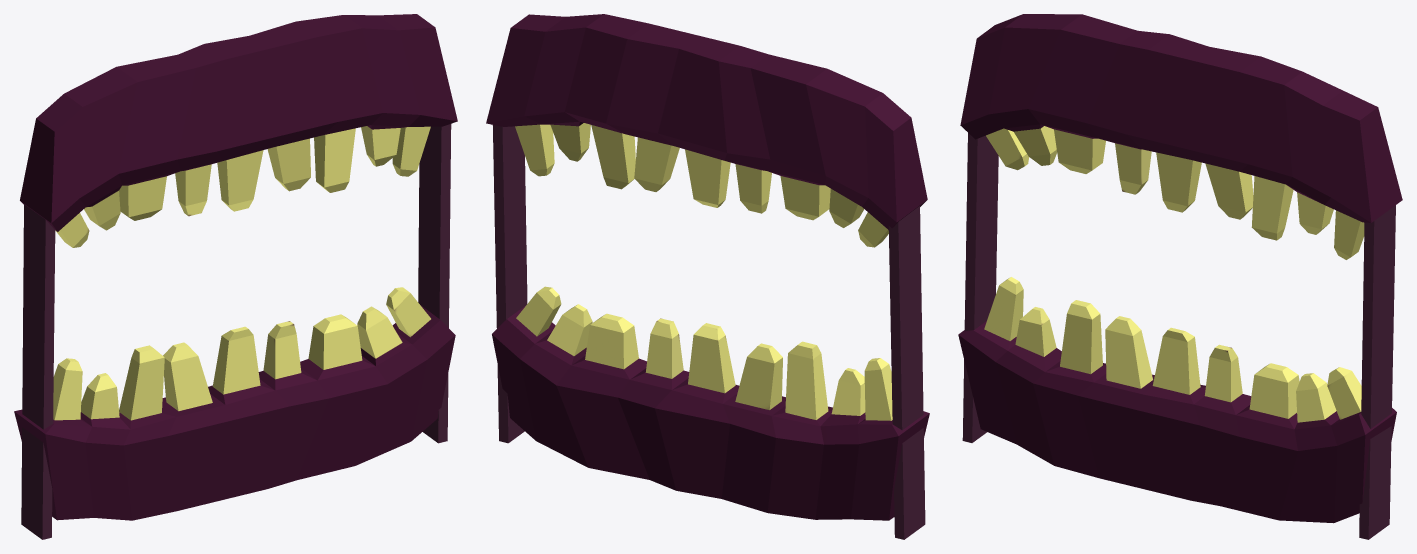
Rendered from EndMouth.fbx.
3 views of the same model, side by side, from view 1: azimuth 30°, elevation 25°; view 2: azimuth 150°, elevation 25°; view 3: azimuth 330°, elevation 25° (orthographic).
Visible parts, largest first — view 1: Cube.001, Cube, Cube.002, Cube.003; view 2: Cube.001, Cube, Cube.002, Cube.003; view 3: Cube.001, Cube, Cube.003, Cube.002.
Part boxes in pixels (x1,y1,x2,y2): Cube.001: [20, 14, 457, 247]; Cube: [14, 287, 455, 520]; Cube.002: [21, 204, 55, 539]; Cube.003: [418, 124, 451, 443]; Cube.001: [486, 14, 927, 247]; Cube: [492, 286, 929, 520]; Cube.002: [888, 206, 925, 539]; Cube.003: [492, 125, 527, 443]; Cube.001: [960, 14, 1402, 259]; Cube: [958, 277, 1396, 523]; Cube.003: [1359, 205, 1395, 539]; Cube.002: [962, 133, 998, 442].
Bounding box in the file's own units: 1033 × 1053 × 150.
